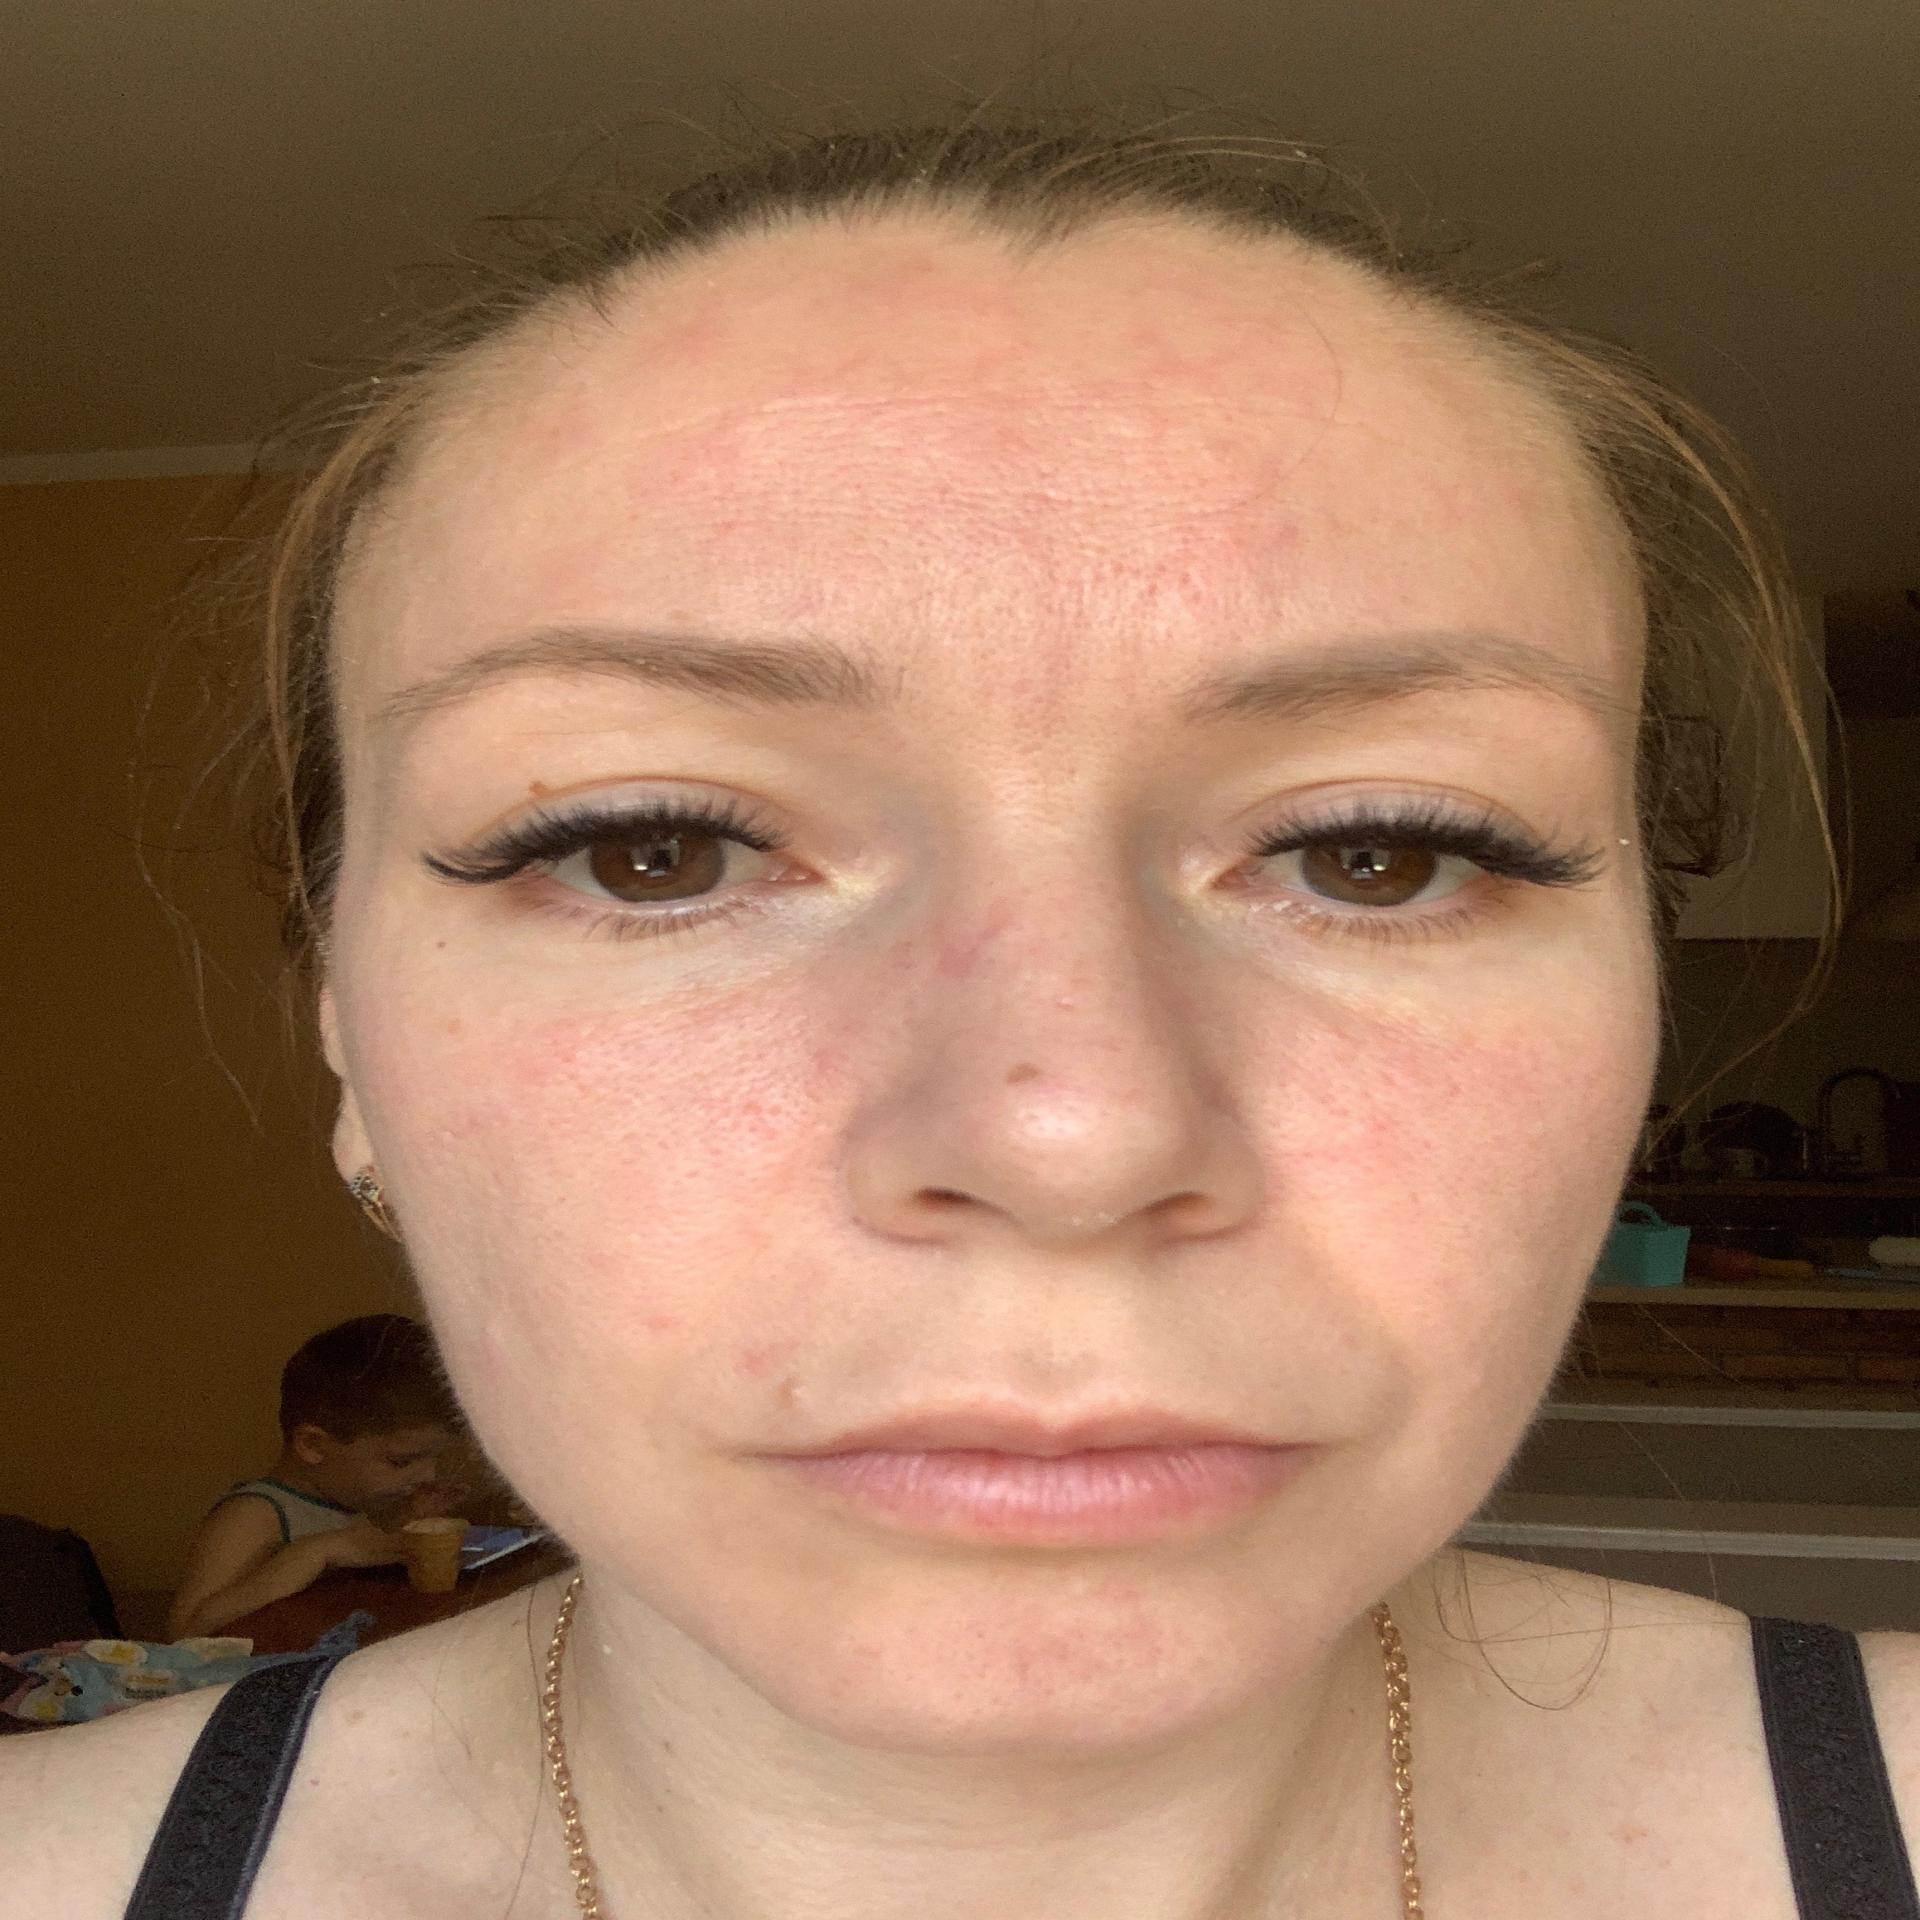Acne: (928, 909, 1004, 974), (761, 1371, 818, 1415), (1101, 1574, 1148, 1611), (1266, 512, 1312, 549), (993, 1058, 1046, 1090), (633, 1310, 686, 1340)
Englarged Pores: (670, 459, 1271, 587), (533, 995, 826, 1175), (927, 585, 1085, 816), (1254, 1043, 1431, 1185), (937, 1619, 1134, 1695), (1071, 578, 1257, 644)
Wrinkles: (644, 385, 1380, 447), (631, 1234, 772, 1445), (1312, 1240, 1444, 1426)
